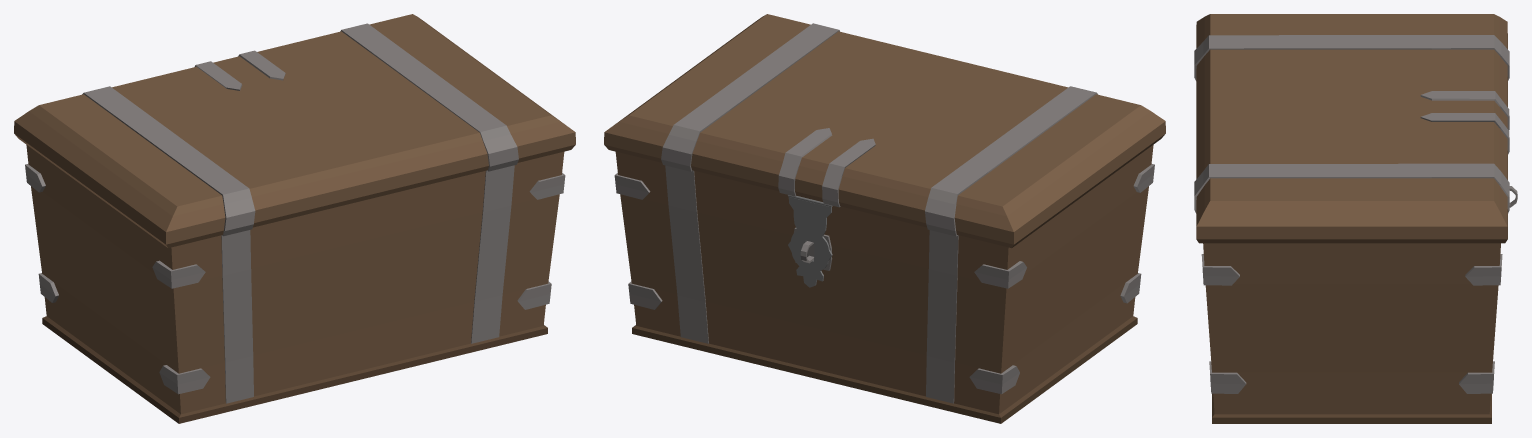
File: Chest.fbx
3 renders of one model, left to right at view 1: azimuth 30°, elevation 25°; view 2: azimuth 150°, elevation 25°; view 3: azimuth 270°, elevation 25°, orthographic. The views are drawn at different scales.
Parts seen in each view (by area): view 1: Chest; view 2: Chest; view 3: Chest.
Boxes of the visible parts, box(x1,y1,x2,y2) form: Chest: box(14, 14, 575, 423); Chest: box(604, 14, 1165, 423); Chest: box(1194, 14, 1517, 423).
Bounding box in the file's own units: 173 × 88.96 × 116.
